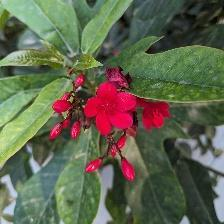jatropha: (84, 82, 141, 139)
